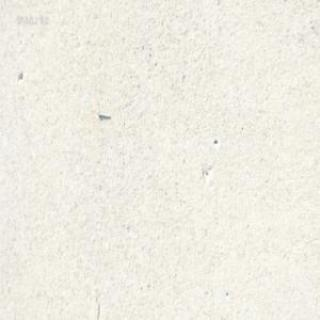Nailtrack_idkeyframe: (96, 109, 110, 118)
